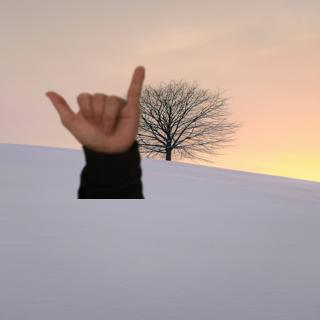HAVE: (41, 61, 148, 157)
